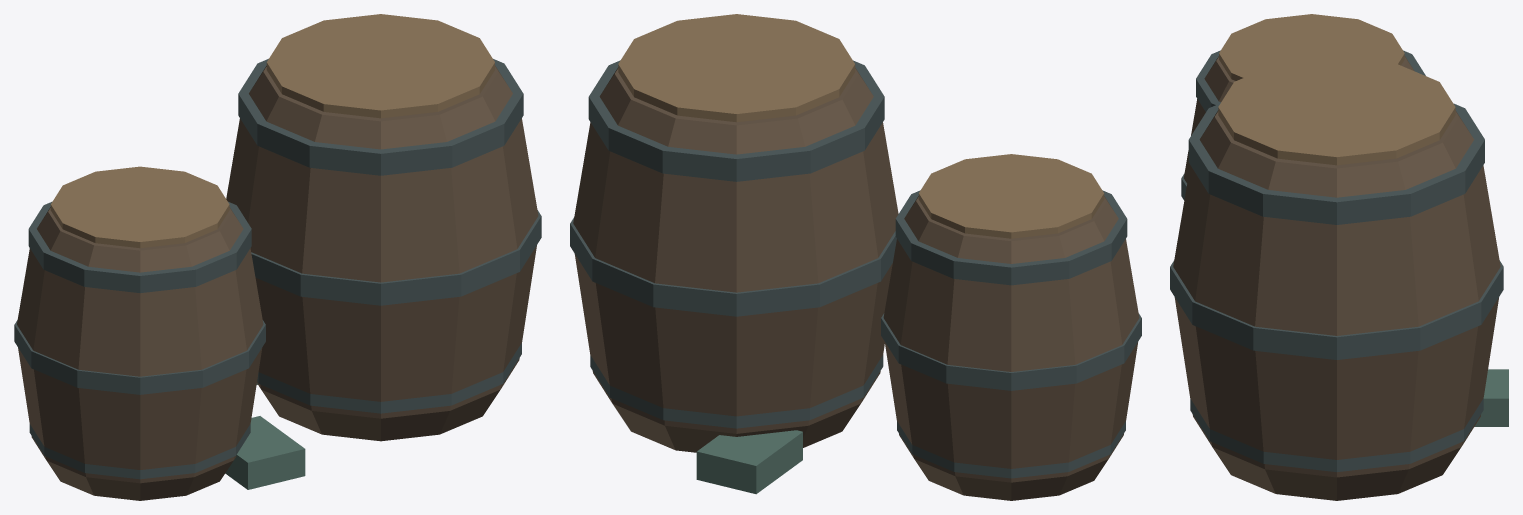
File: SW_Cargo_WetBarrels.fbx
The picture shows the model from 3 angles, left to right: view 1: azimuth 30°, elevation 25°; view 2: azimuth 150°, elevation 25°; view 3: azimuth 270°, elevation 25°; orthographic projection. The views are drawn at different scales.
Parts seen in each view (by area): view 1: SW_Cargo_WetBarrels; view 2: SW_Cargo_WetBarrels; view 3: SW_Cargo_WetBarrels.
Boxes of the visible parts, left/top/right/bottom form: SW_Cargo_WetBarrels: left=14, top=14, right=541, bottom=500; SW_Cargo_WetBarrels: left=570, top=14, right=1141, bottom=500; SW_Cargo_WetBarrels: left=1170, top=14, right=1508, bottom=500.
Size of the model in its own units: 1.92 by 1.21 by 1.08.
